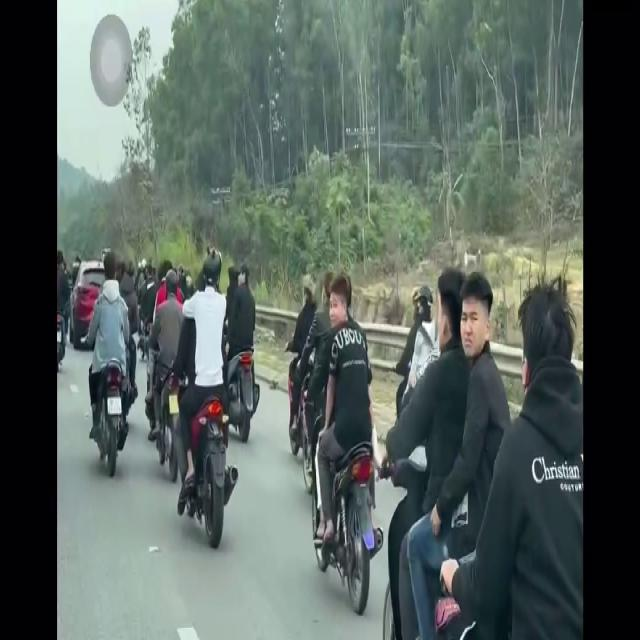helmet: (202, 246, 224, 302)
no_helmet: (519, 280, 575, 419), (462, 269, 496, 371), (433, 267, 461, 363), (329, 272, 353, 338)
